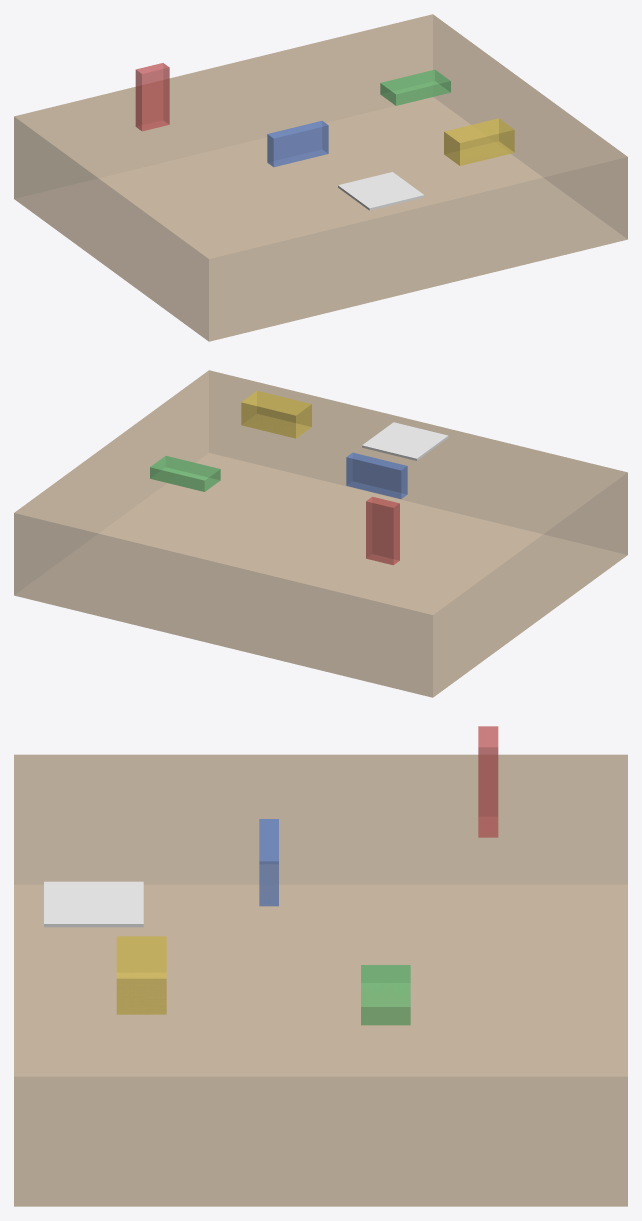
The model's file is bench-scene.glb.
3 renders of one model, top to bottom at view 1: azimuth 30°, elevation 25°; view 2: azimuth 150°, elevation 25°; view 3: azimuth 270°, elevation 25°, orthographic. The views are drawn at different scales.
Visible parts, largest first — view 1: game_box, domino_4, domino_1, domino_3, ar_launch_plaque, domino_2; view 2: game_box, domino_4, domino_3, domino_1, ar_launch_plaque, domino_2; view 3: game_box, ar_launch_plaque, domino_4, domino_2, domino_1, domino_3.
Boxes of the visible parts, x1,y1,x2,y2 form: game_box: (14, 14, 627, 341); domino_4: (444, 118, 514, 165); domino_1: (135, 63, 169, 131); domino_3: (267, 121, 328, 167); ar_launch_plaque: (338, 172, 424, 210); domino_2: (380, 69, 450, 105); game_box: (14, 370, 627, 697); domino_4: (241, 391, 311, 438); domino_3: (346, 452, 407, 498); domino_1: (366, 496, 399, 565); ar_launch_plaque: (362, 422, 448, 460); domino_2: (150, 456, 220, 491); game_box: (14, 754, 627, 1206); ar_launch_plaque: (44, 881, 143, 927); domino_4: (116, 936, 166, 1014); domino_2: (361, 965, 410, 1025); domino_1: (478, 726, 498, 837); domino_3: (259, 819, 278, 906).
Bounding box in the file's own units: 0.382 × 0.122 × 0.308.
